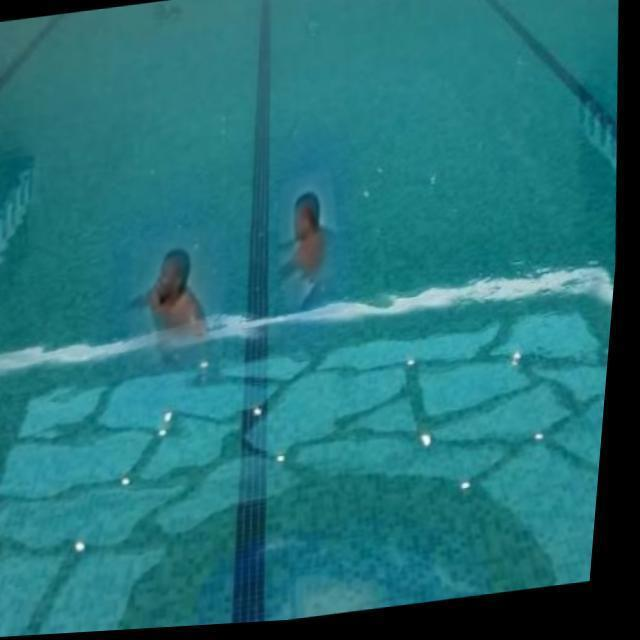swimming: (130, 234, 226, 372), (255, 187, 364, 300)
